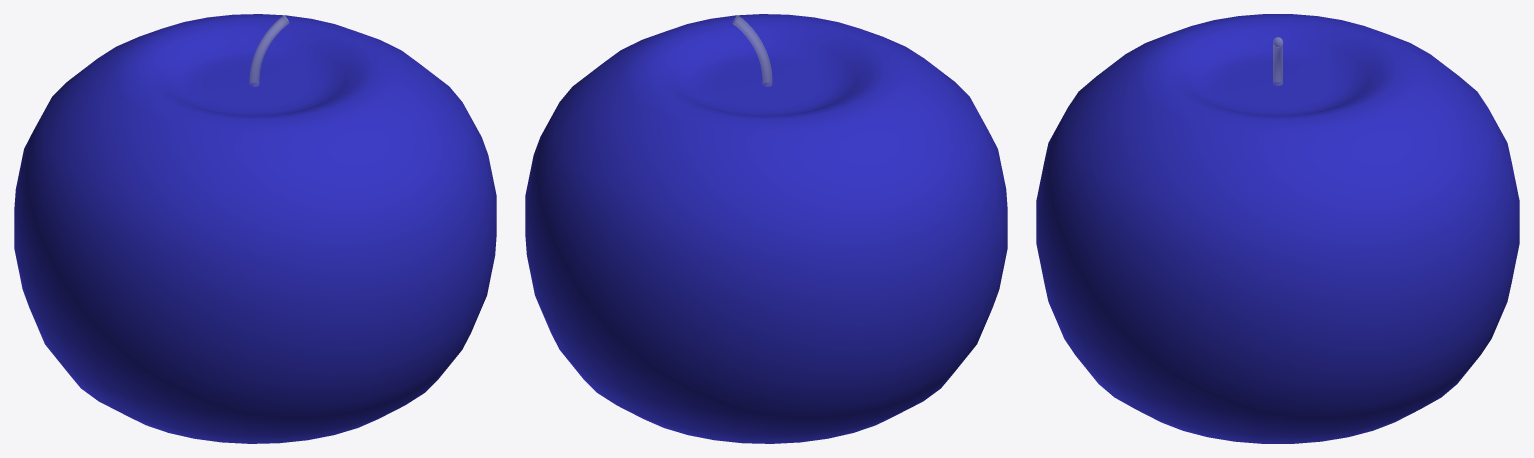
File: apple.glb
3 views of the same model, side by side, from view 1: azimuth 30°, elevation 25°; view 2: azimuth 150°, elevation 25°; view 3: azimuth 270°, elevation 25° (orthographic).
Parts seen in each view (by area): view 1: Apple; view 2: Apple; view 3: Apple.
Part boxes in pixels (box(x1,y1,x2,y2)): Apple: box(14, 14, 496, 443); Apple: box(525, 14, 1007, 443); Apple: box(1036, 14, 1519, 443).
Size of the model in its own units: 45.95 by 39.17 by 46.14.
